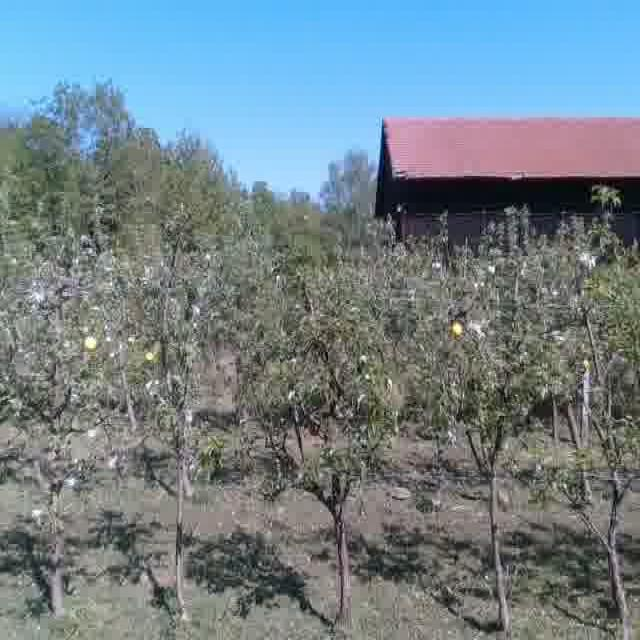yellow: (450, 321, 466, 335), (84, 334, 95, 352), (145, 350, 156, 363)
